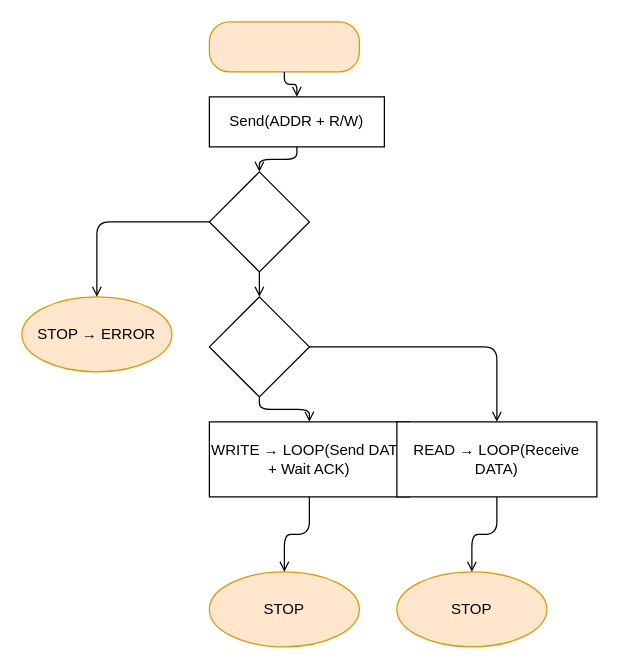
The diagram is 619 pixels wide and 669 high, and some of its shapes have lost their labels. Each missing label, with the centre of its shape:
"ACK ?" belongs at (x=258, y=221).
"R/W ?" belongs at (x=258, y=346).
"START" belongs at (x=283, y=46).
